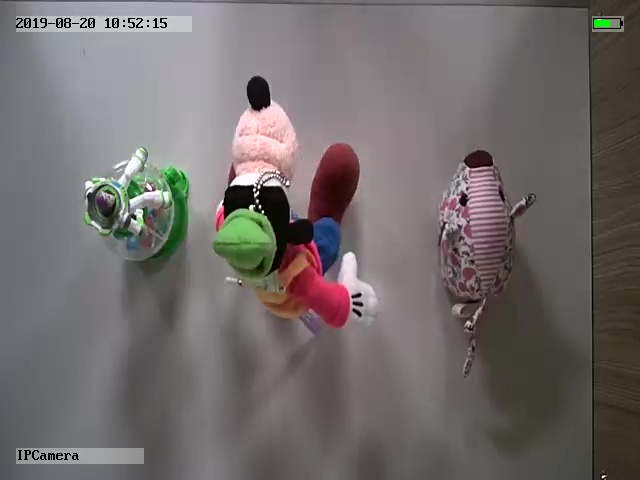buzz: (82, 143, 192, 271)
goofy: (212, 74, 378, 333)
pig: (435, 149, 535, 377)
